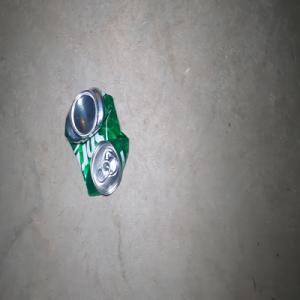SodaCan: (64, 86, 128, 196)
